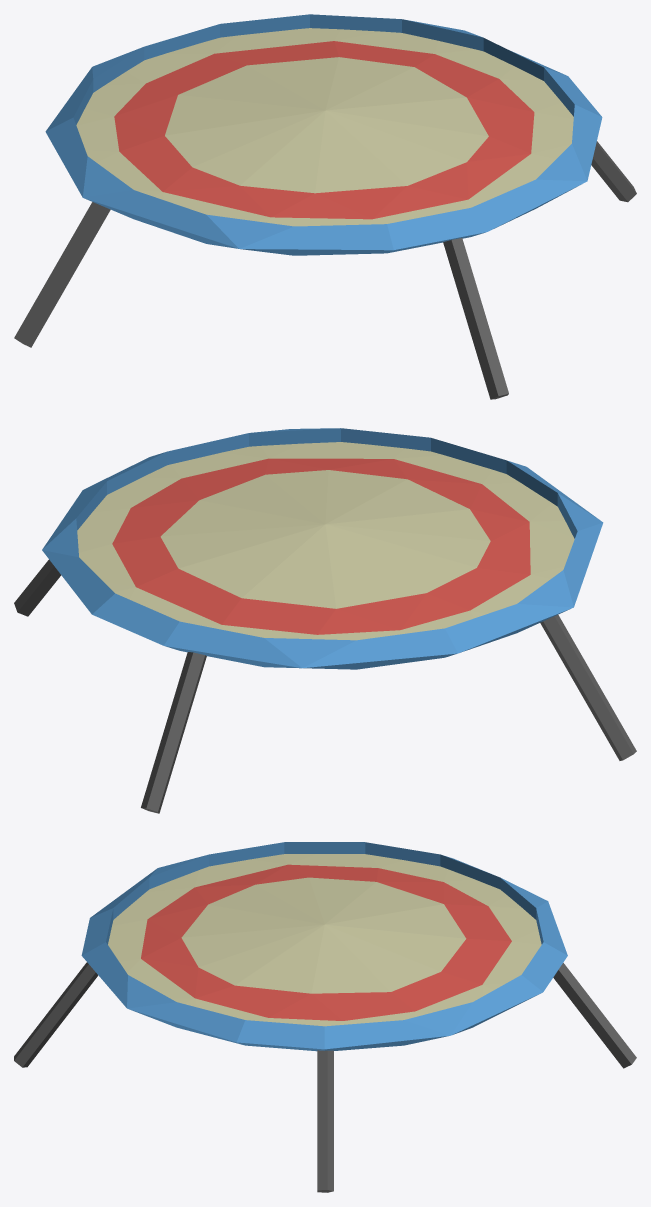
The model's file is trampoline.fbx.
3 views of the same model, one above another, from view 1: azimuth 30°, elevation 25°; view 2: azimuth 150°, elevation 25°; view 3: azimuth 270°, elevation 25° (orthographic). The views are drawn at different scales.
Visible parts, largest first — view 1: Circle.001, Torus, Cylinder, Cylinder.003, Cylinder.002; view 2: Circle.001, Torus, Cylinder.001, Cylinder.003, Cylinder.002; view 3: Circle.001, Torus, Cylinder.002, Cylinder, Cylinder.001.
Part boxes in pixels (box(x1,y1,x2,y2)): Circle.001: box(76, 28, 573, 226); Torus: box(45, 14, 602, 255); Cylinder: box(443, 238, 508, 399); Cylinder.003: box(14, 202, 110, 347); Cylinder.002: box(591, 141, 636, 202); Circle.001: box(77, 442, 574, 640); Torus: box(42, 428, 603, 669); Cylinder.001: box(141, 652, 206, 813); Cylinder.003: box(540, 615, 636, 760); Cylinder.002: box(14, 559, 61, 616); Circle.001: box(108, 854, 541, 1026); Torus: box(81, 842, 567, 1051); Cylinder.002: box(317, 1050, 333, 1192); Cylinder: box(14, 962, 98, 1067); Cylinder.001: box(553, 963, 636, 1068).
Bounding box in the file's own units: 958 × 242 × 957.
